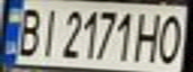1: (112, 8, 139, 62), (78, 7, 100, 60)
2: (60, 6, 84, 60)
7: (97, 7, 118, 60)
B: (9, 2, 45, 57)
H: (133, 8, 166, 63)
I: (33, 3, 60, 59)
O: (154, 9, 190, 64)
